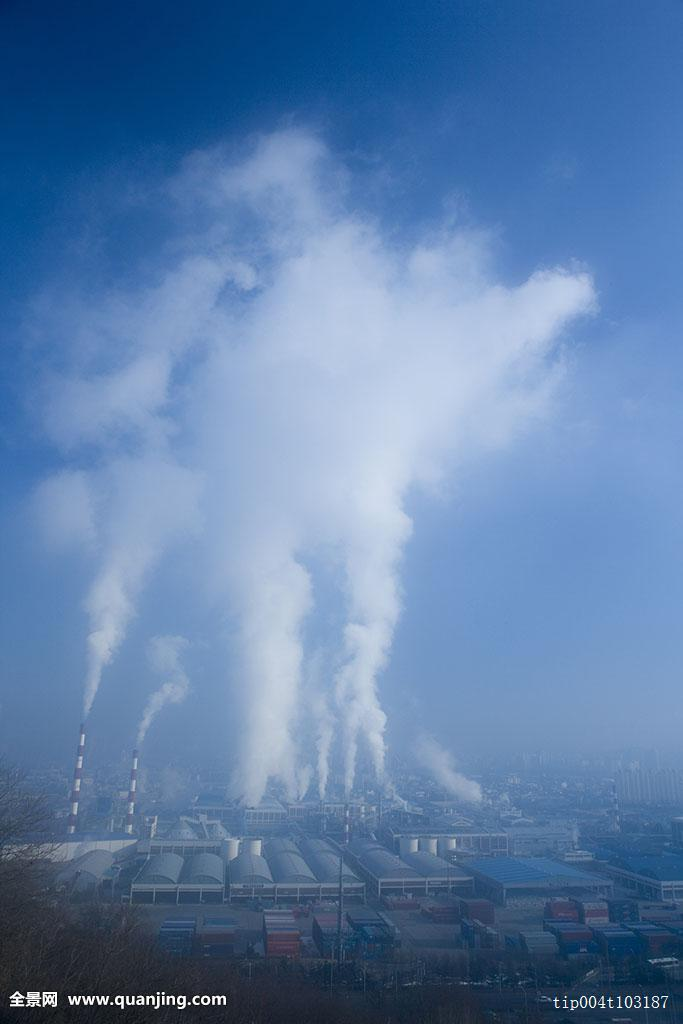dust: (203, 594, 303, 825), (311, 595, 412, 811), (62, 599, 118, 761), (117, 660, 181, 769)
